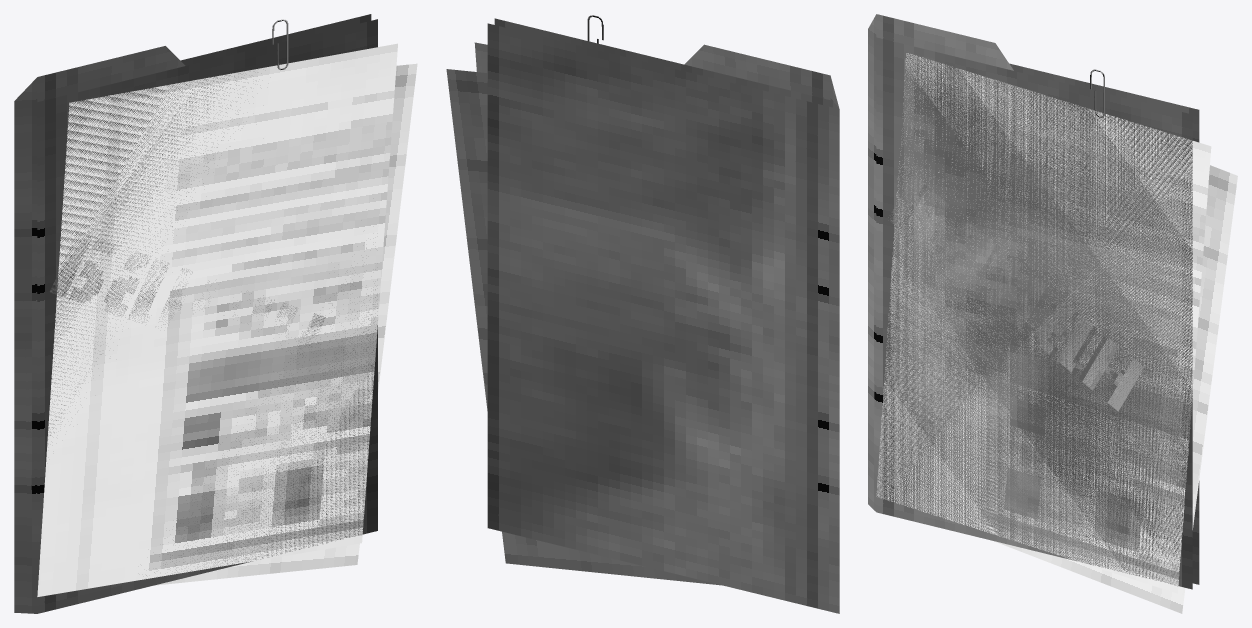
The model's file is GplansZ.obj.
3 views of the same model, side by side, from view 1: azimuth 30°, elevation 25°; view 2: azimuth 150°, elevation 25°; view 3: azimuth 330°, elevation 25° (orthographic). The views are drawn at different scales.
Bounding box in the file's own units: 100 × 136 × 4.
Materials: 6 (6 with a texture image).
